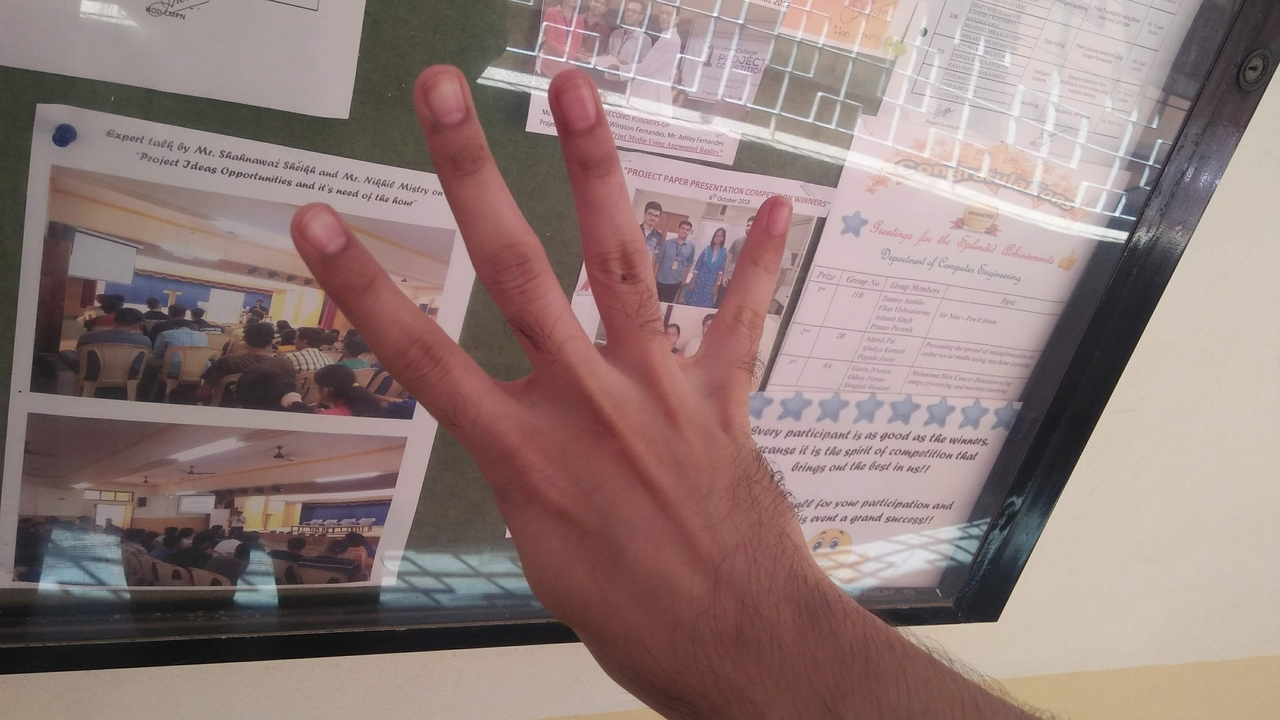fingertip: (280, 196, 350, 262), (412, 60, 472, 126), (546, 66, 604, 126), (750, 184, 800, 236)
